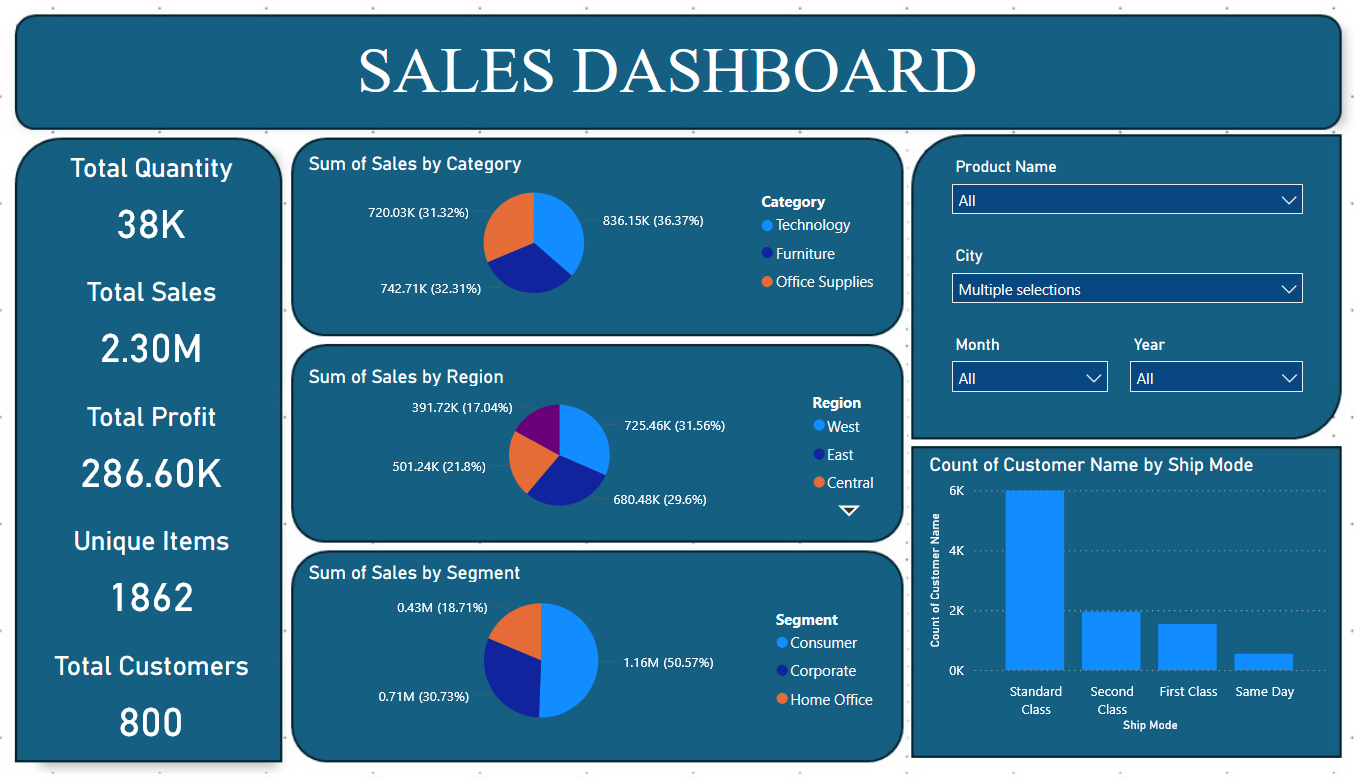

The dashboard page shown, as its layout file describes it:
{"tool":"powerbi","page":{"name":"Page 1","canvas":[1280,720],"ordinal":0},"visuals":[{"type":"textbox","box":[48,32,1168,80],"z":0},{"type":"card","title":"Total Sales","fields":{"Values":["Sum(Sales Overview Data xlsx - Sales Data.Sales)"]},"box":[64,256,208,96],"z":1000},{"type":"card","title":"Total Profit","fields":{"Values":["Sum(Sales Overview Data xlsx - Sales Data.Profit)"]},"box":[64,368,208,96],"z":2000},{"type":"card","title":"Total Quantity","fields":{"Values":["Sum(Sales Overview Data xlsx - Sales Data.Quantity)"]},"box":[64,144,208,96],"z":3000},{"type":"slicer","fields":{"Values":["Sales Overview Data xlsx - Sales Data.City"]},"box":[880,224,336,80],"z":4000},{"type":"slicer","fields":{"Values":["Sales Overview Data xlsx - Sales Data.Product Name"]},"box":[880,144,336,80],"z":5000},{"type":"slicer","fields":{"Values":["Sales Overview Data xlsx - Sales Data.Order Date.Variation.Date Hierarchy.Year"]},"box":[1040,304,176,80],"z":6000},{"type":"slicer","fields":{"Values":["Sales Overview Data xlsx - Sales Data.Order Date.Variation.Date Hierarchy.Month"]},"box":[880,304,160,80],"z":7000},{"type":"card","title":"Total Customers","fields":{"Values":["Count(Sales Overview Data xlsx - Sales Data.Customer ID)"]},"box":[64,592,208,96],"z":8000},{"type":"card","title":"Unique Items","fields":{"Values":["Count(Sales Overview Data xlsx - Sales Data.Product ID)"]},"box":[64,480,208,96],"z":9000},{"type":"pieChart","fields":{"Y":["Sum(Sales Overview Data xlsx - Sales Data.Sales)"],"Category":["Sales Overview Data xlsx - Sales Data.Category"]},"box":[304,144,528,144],"z":10000},{"type":"pieChart","fields":{"Y":["Sum(Sales Overview Data xlsx - Sales Data.Sales)"],"Category":["Sales Overview Data xlsx - Sales Data.Segment"]},"box":[304,512,528,160],"z":11000},{"type":"pieChart","fields":{"Y":["Sum(Sales Overview Data xlsx - Sales Data.Sales)"],"Category":["Sales Overview Data xlsx - Sales Data.Region"]},"box":[304,336,528,144],"z":12000},{"type":"lineStackedColumnComboChart","fields":{"Category":["Sales Overview Data xlsx - Sales Data.Ship Mode"],"Y":["CountNonNull(Sales Overview Data xlsx - Sales Data.Customer Name)"]},"box":[864,416,368,256],"z":12001}]}

Visuals, with their boxes in screenshot pixels (x1, y1, x2, y2), scaled from the page's 1280x720 canvas onto the 1355x780 screenshot:
textbox: [51,35,1287,121]
"Total Sales" card: [68,277,288,381]
"Total Profit" card: [68,399,288,503]
"Total Quantity" card: [68,156,288,260]
slicer - Sales Overview Data xlsx - Sales Data.City: [932,243,1287,329]
slicer - Sales Overview Data xlsx - Sales Data.Product Name: [932,156,1287,243]
slicer - Sales Overview Data xlsx - Sales Data.Order Date.Variation.Date Hierarchy.Year: [1101,329,1287,416]
slicer - Sales Overview Data xlsx - Sales Data.Order Date.Variation.Date Hierarchy.Month: [932,329,1101,416]
"Total Customers" card: [68,641,288,745]
"Unique Items" card: [68,520,288,624]
pieChart - Sum(Sales Overview Data xlsx - Sales Data.Sales) x Sales Overview Data xlsx - Sales Data.Category: [322,156,881,312]
pieChart - Sum(Sales Overview Data xlsx - Sales Data.Sales) x Sales Overview Data xlsx - Sales Data.Segment: [322,555,881,728]
pieChart - Sum(Sales Overview Data xlsx - Sales Data.Sales) x Sales Overview Data xlsx - Sales Data.Region: [322,364,881,520]
lineStackedColumnComboChart - Sales Overview Data xlsx - Sales Data.Ship Mode x CountNonNull(Sales Overview Data xlsx - Sales Data.Customer Name): [915,451,1304,728]
